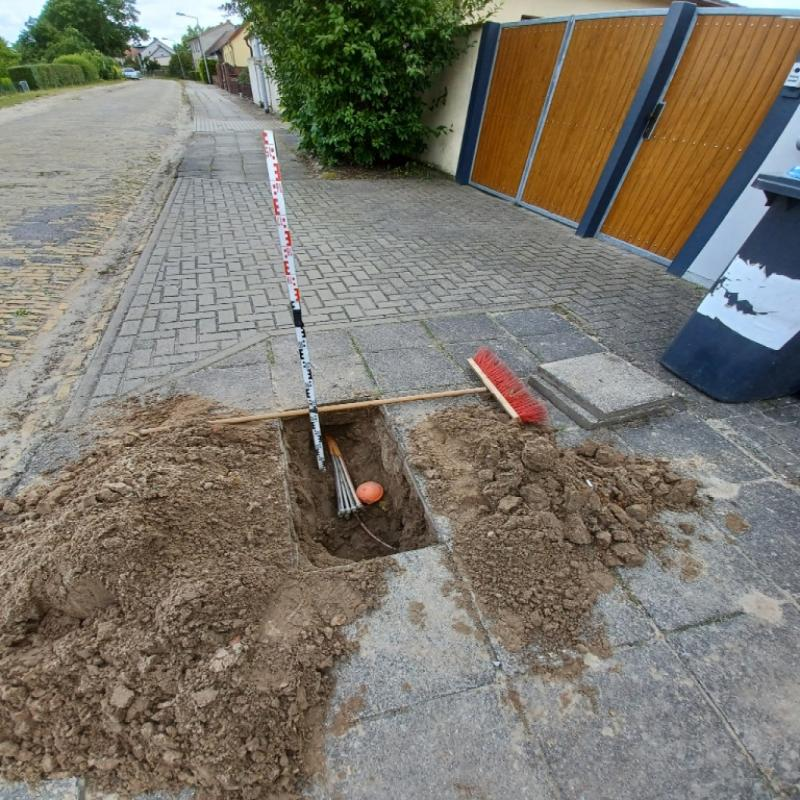Kugelmarker: (357, 482, 383, 504)
Orang-Speednetrohrchen: (324, 435, 364, 514)
